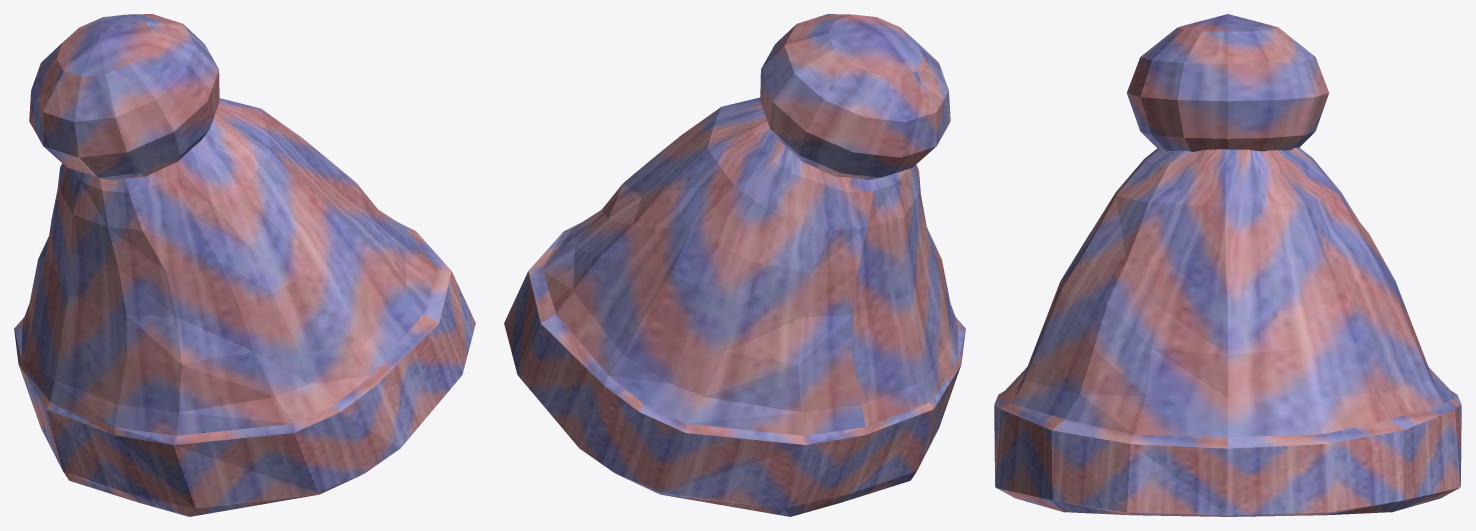
The model's file is STRIPE POMPOM HAT.fbx.
3 renders of one model, left to right at view 1: azimuth 30°, elevation 25°; view 2: azimuth 150°, elevation 25°; view 3: azimuth 270°, elevation 25°, orthographic.
Parts seen in each view (by area): view 1: STRIPE_POMPOM_HAT; view 2: STRIPE_POMPOM_HAT; view 3: STRIPE_POMPOM_HAT.
Boxes of the visible parts, box(x1,y1,x2,y2) form: STRIPE_POMPOM_HAT: box(14, 14, 475, 516); STRIPE_POMPOM_HAT: box(504, 14, 965, 516); STRIPE_POMPOM_HAT: box(994, 14, 1461, 516).
Size of the model in its own units: 30.52 by 33.2 by 31.29.
